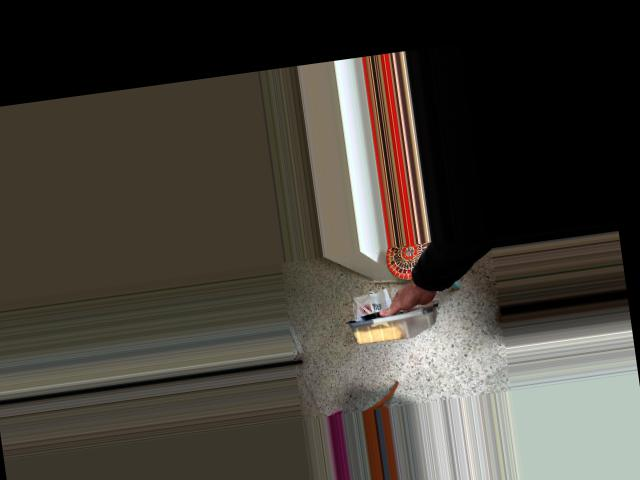cheese: (349, 260, 460, 368)
